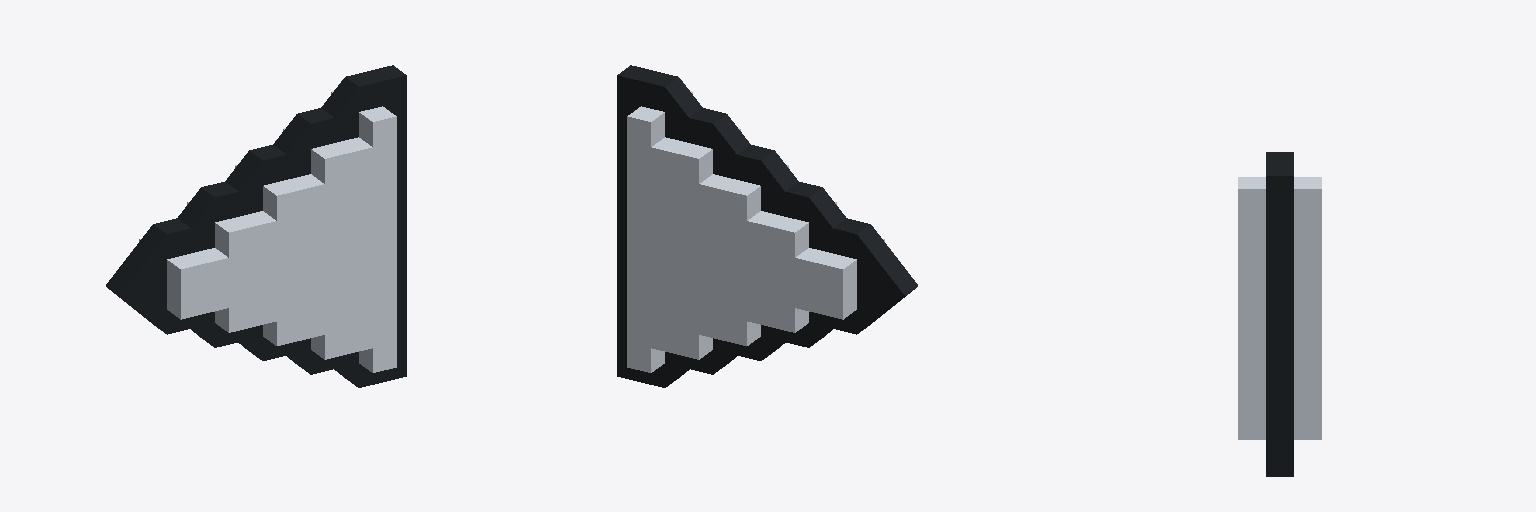
The model's file is Arrow.obj.
The picture shows the model from 3 angles: view 1: azimuth 30°, elevation 25°; view 2: azimuth 150°, elevation 25°; view 3: azimuth 270°, elevation 25°; orthographic projection.
Bounding box in the file's own units: 12 × 12 × 3.